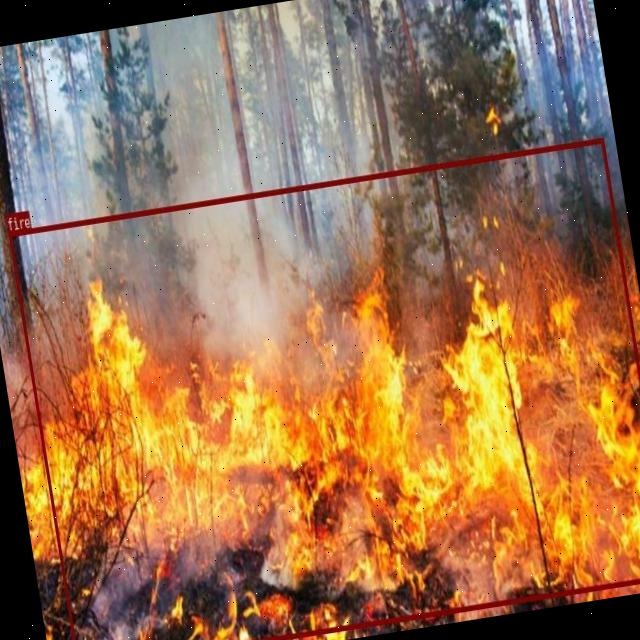fire: (8, 137, 640, 640)
